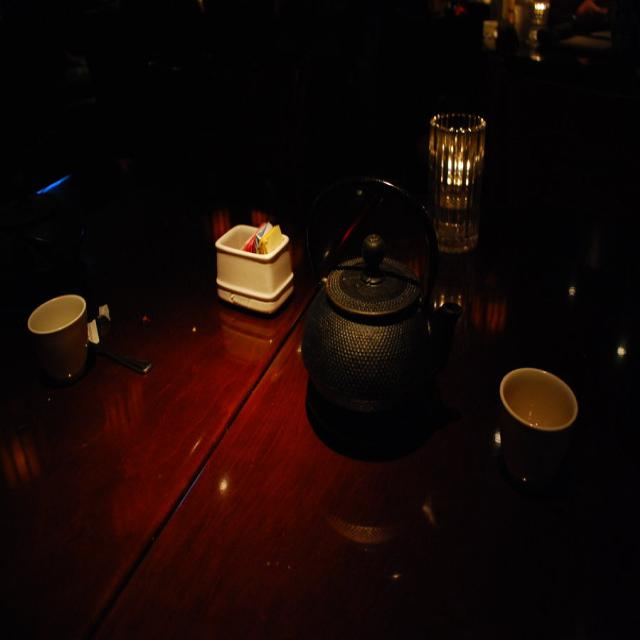Cup: (500, 350, 581, 504), (425, 95, 497, 261), (21, 273, 108, 403)
Table: (0, 103, 639, 640)
